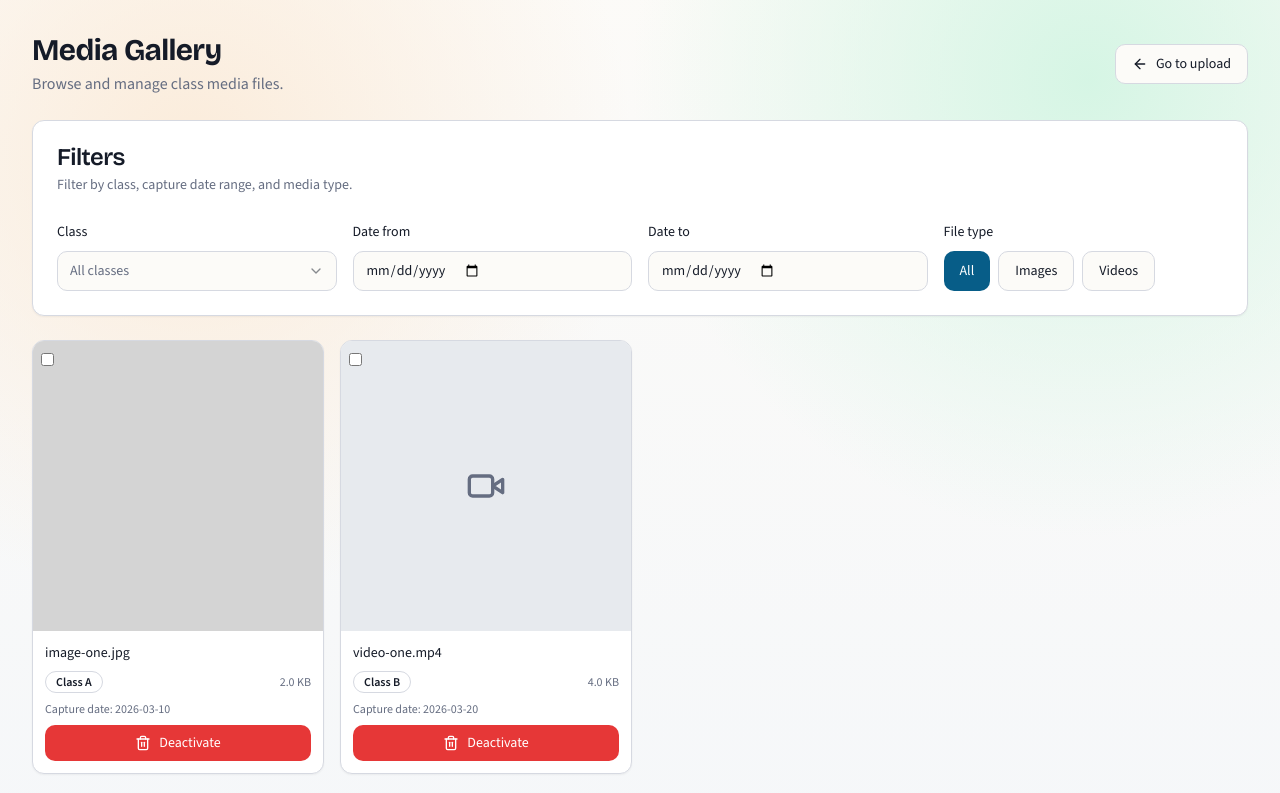
MediaGalleryPage › bulk deactivates selected items and falls back to patch when bulk endpoint is missing
Expected: the text "image-one.jpg" is shown, [45,643,130,662]
Click the checkbox named "Select image-one.jpg": [48, 360] box [41,353,54,366]
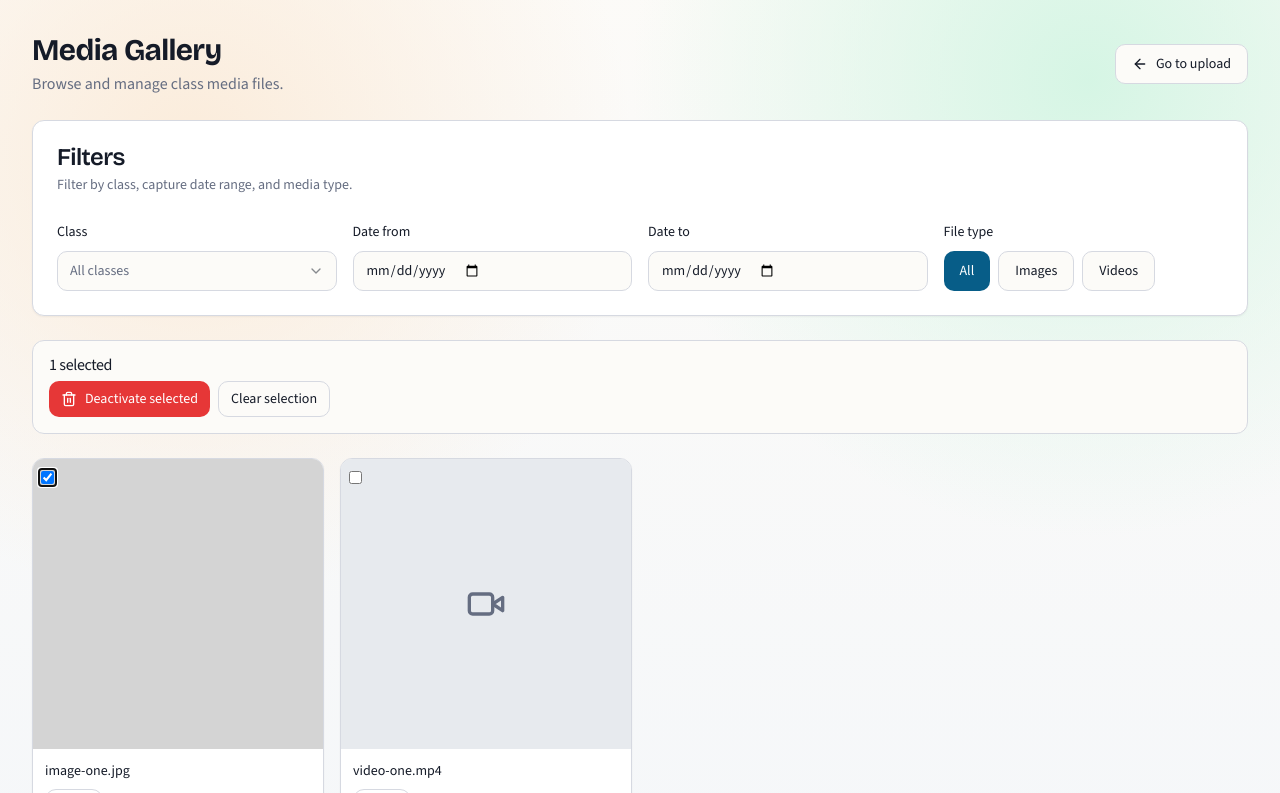
Click the checkbox named "Select video-one.mp4": [356, 478] box [349,471,362,484]
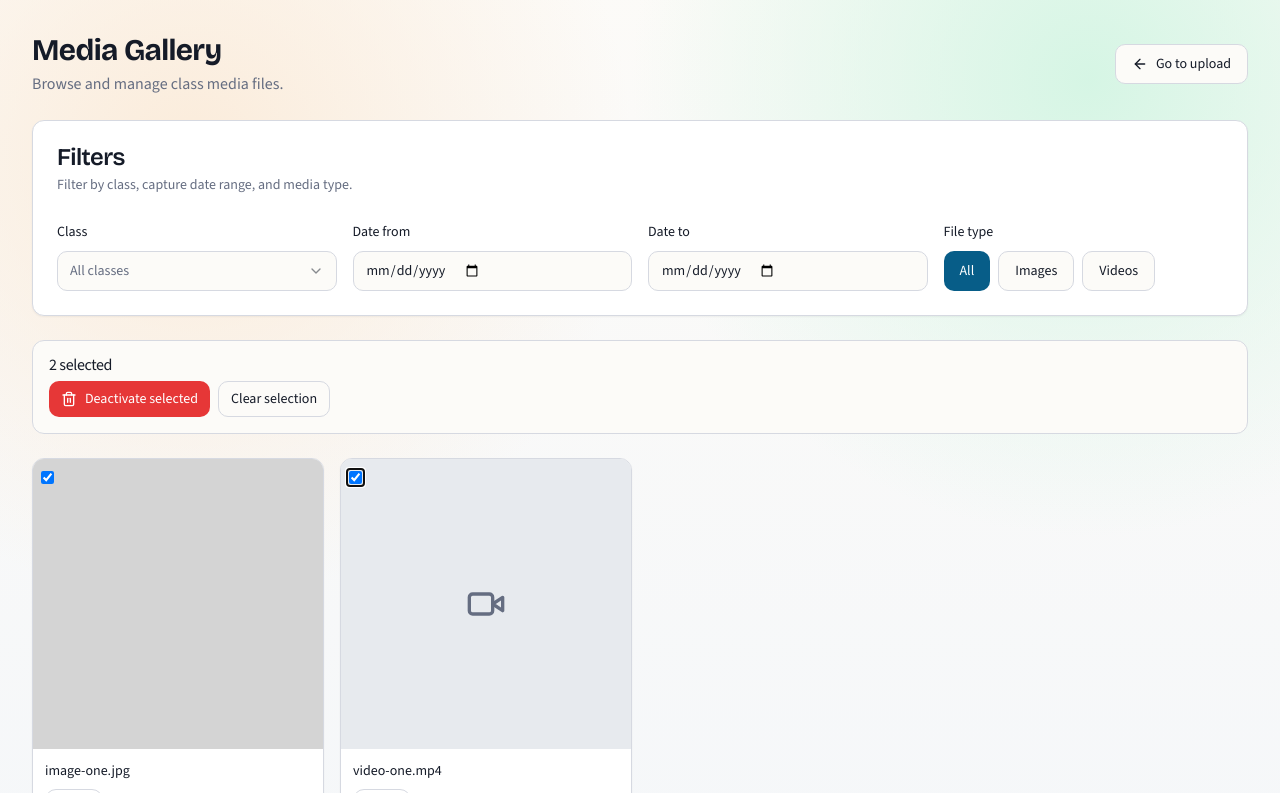
Click the button "Deactivate selected": [130, 399] box [49,381,210,417]
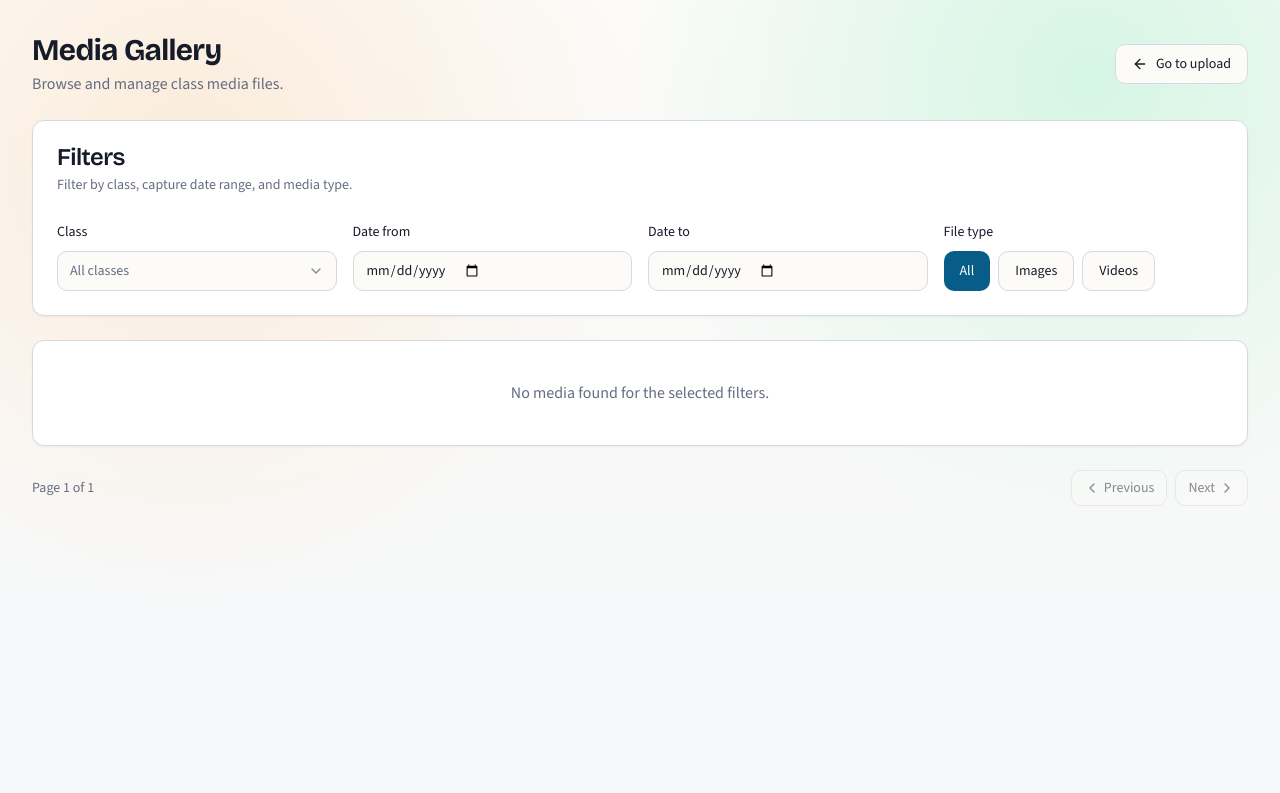
Expected: the text "image-one.jpg" is gone
Expected: the text "video-one.mp4" is gone
